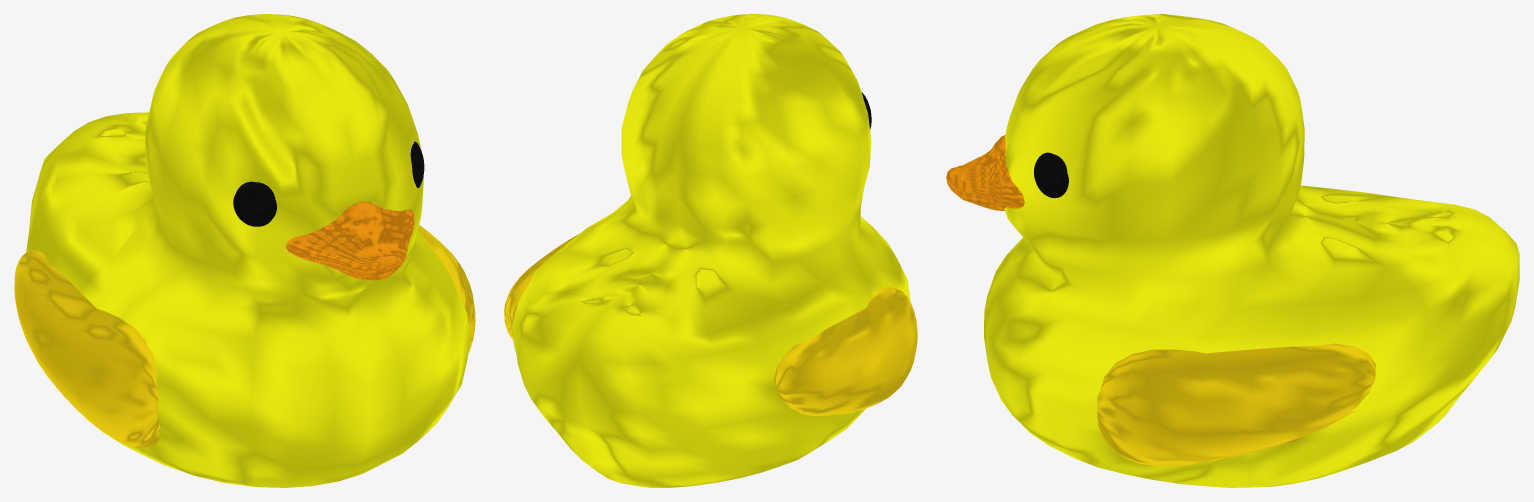
Rendered from Duck.glb.
3 renders of one model, left to right at view 1: azimuth 30°, elevation 25°; view 2: azimuth 150°, elevation 25°; view 3: azimuth 270°, elevation 25°, orthographic. The views are drawn at different scales.
Visible parts, largest first — view 1: Duck; view 2: Duck; view 3: Duck.
Part boxes in pixels (bbox=[...]): Duck: bbox=[14, 14, 475, 487]; Duck: bbox=[504, 14, 917, 487]; Duck: bbox=[946, 14, 1519, 487].
Bounding box in the file's own units: 34 × 37.11 × 44.23.
